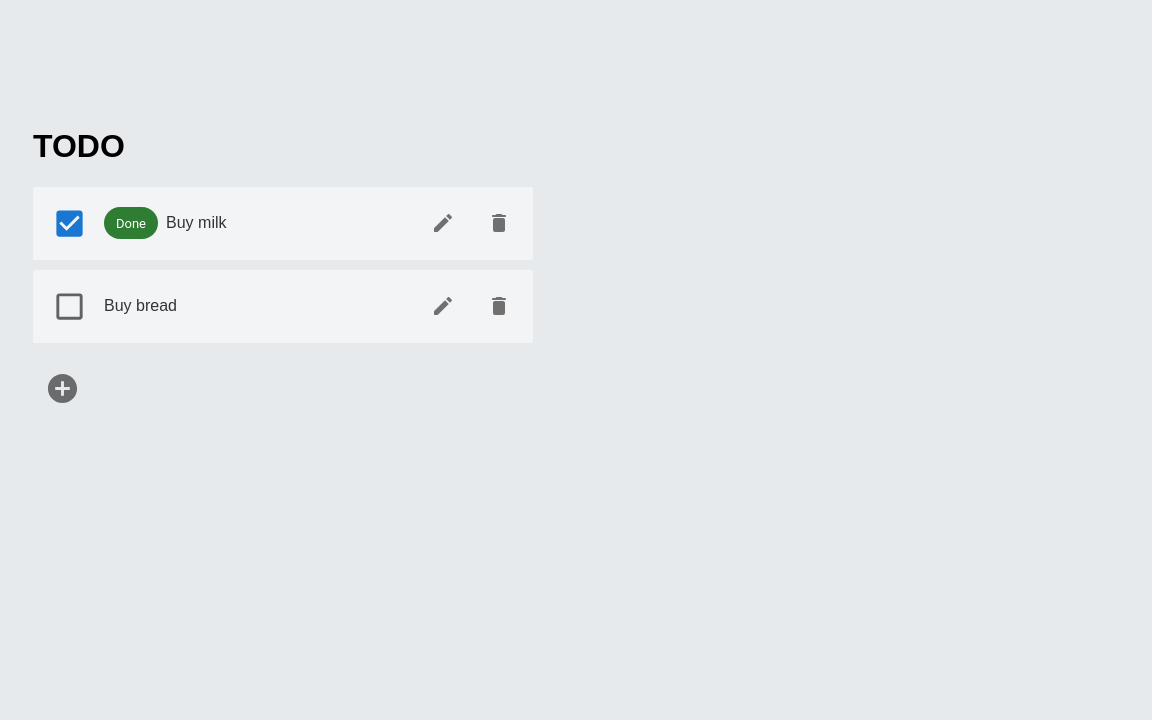
TodoApp › should create a new todo item with subject Buy everything to top of list
Step 1. Click the button with test id "button-add-todo" → (62, 388), box [33,359,92,418]
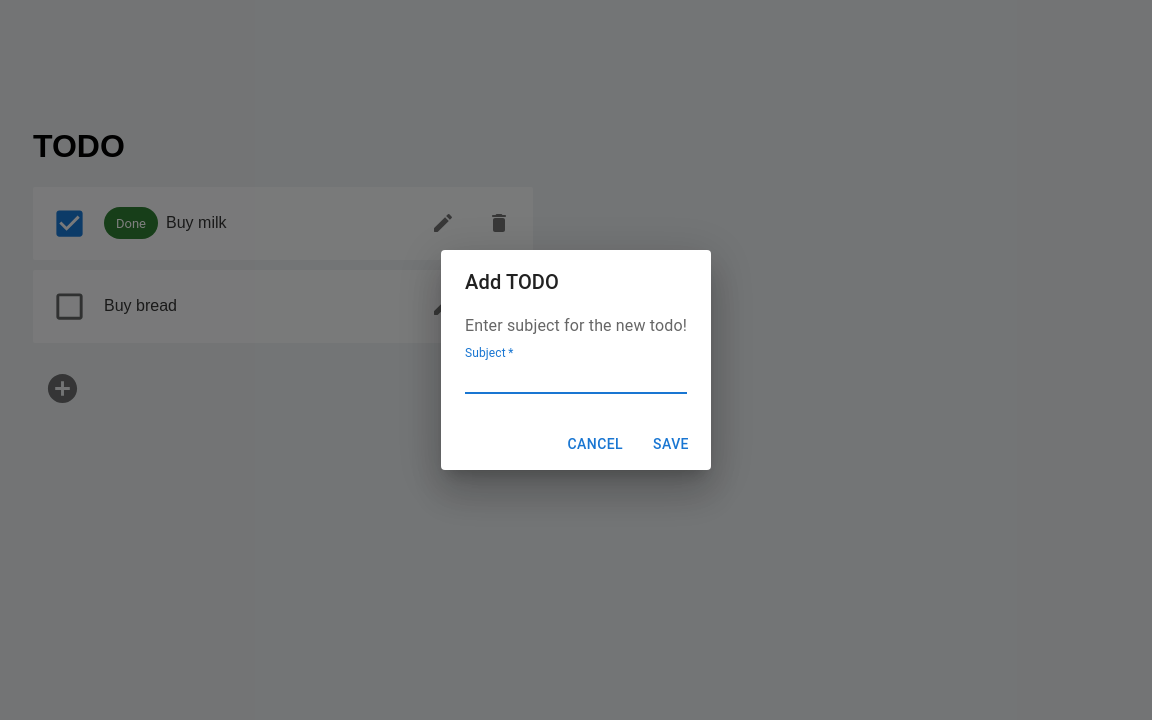
Step 2. Type "Buy everything" into the field with test id "dialog-input-todo-subject" → (576, 378), box [465,362,687,394]
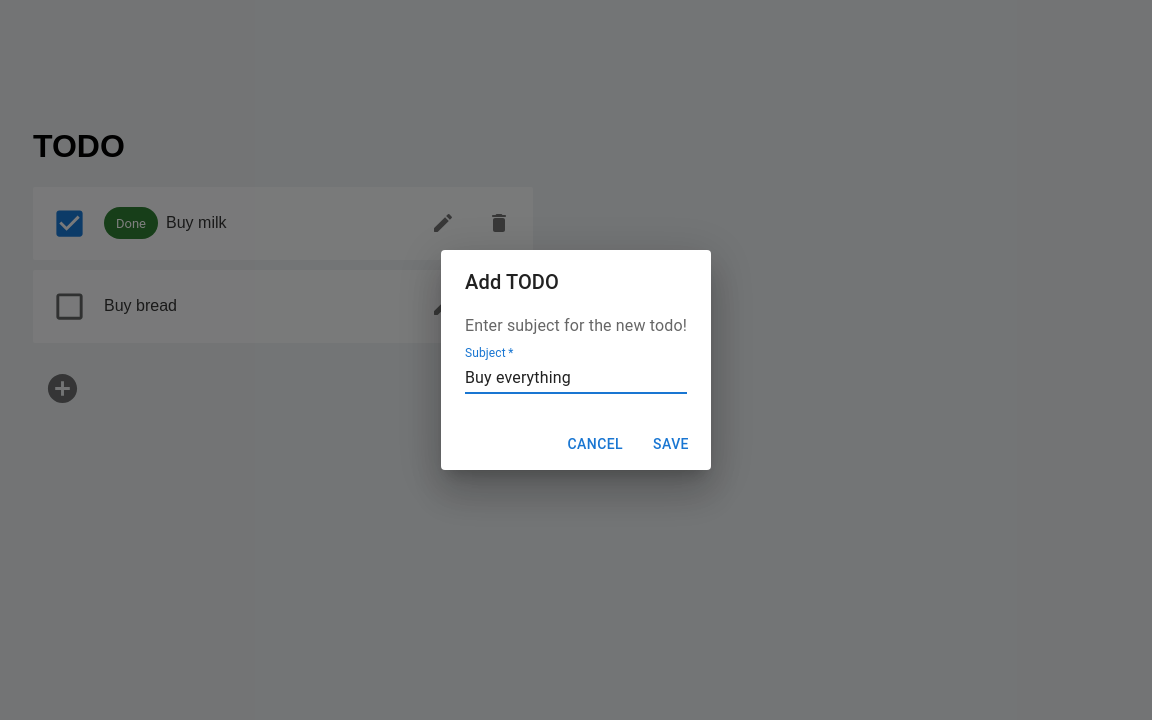
Step 3. Click the button with test id "dialog-button-save-todo" → (671, 444), box [639,426,703,462]
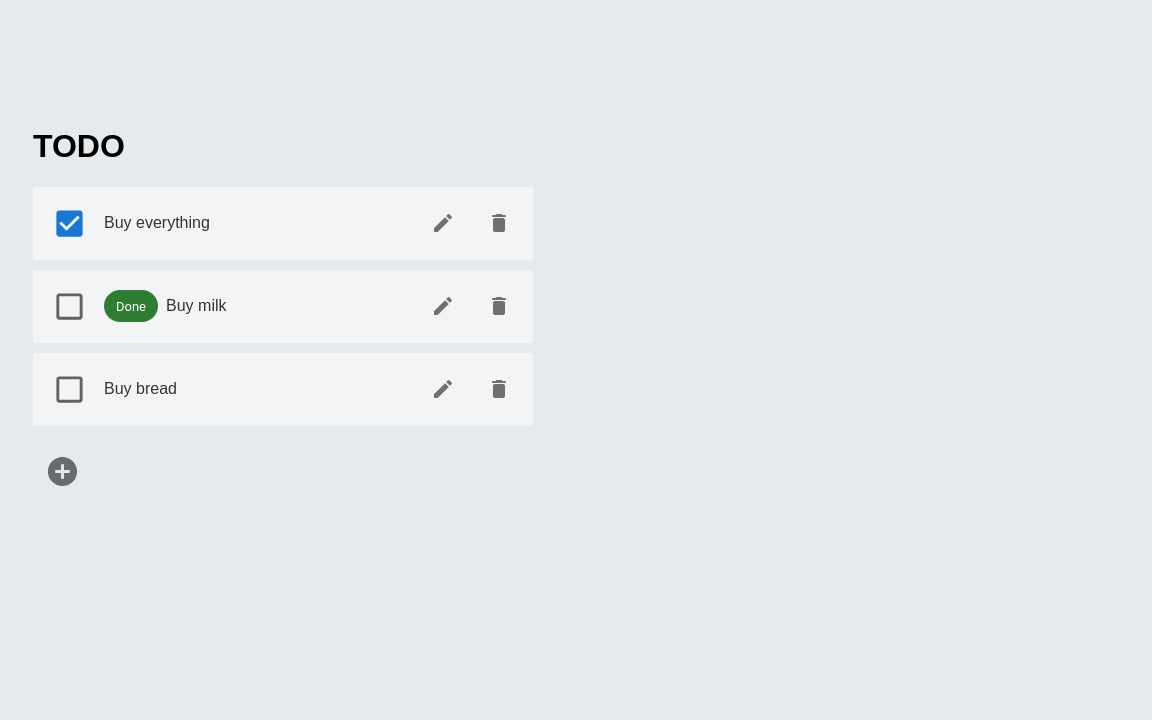
Expected: the text with test id "todo-list-item-text-0" reads "Buy everything", [104,214,210,231]
